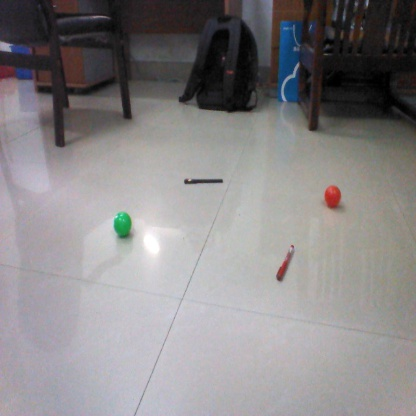ball: (113, 209, 134, 237), (324, 183, 341, 207)
pen: (277, 244, 296, 279), (183, 178, 225, 186)
